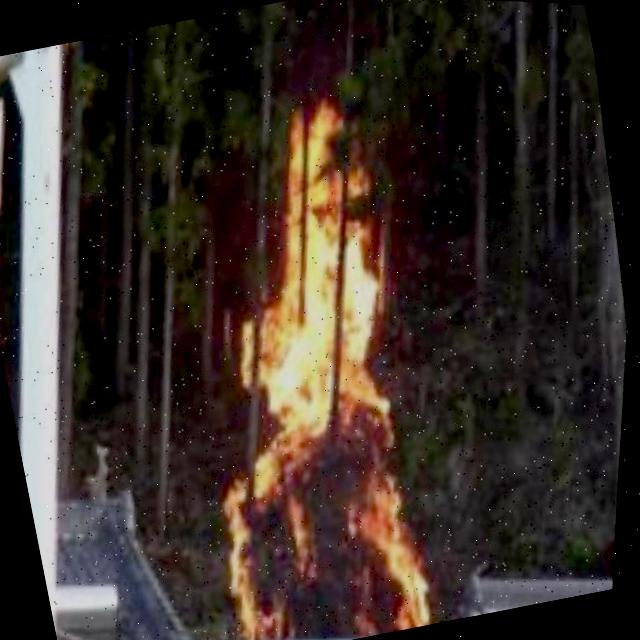fire: (115, 57, 458, 640)
